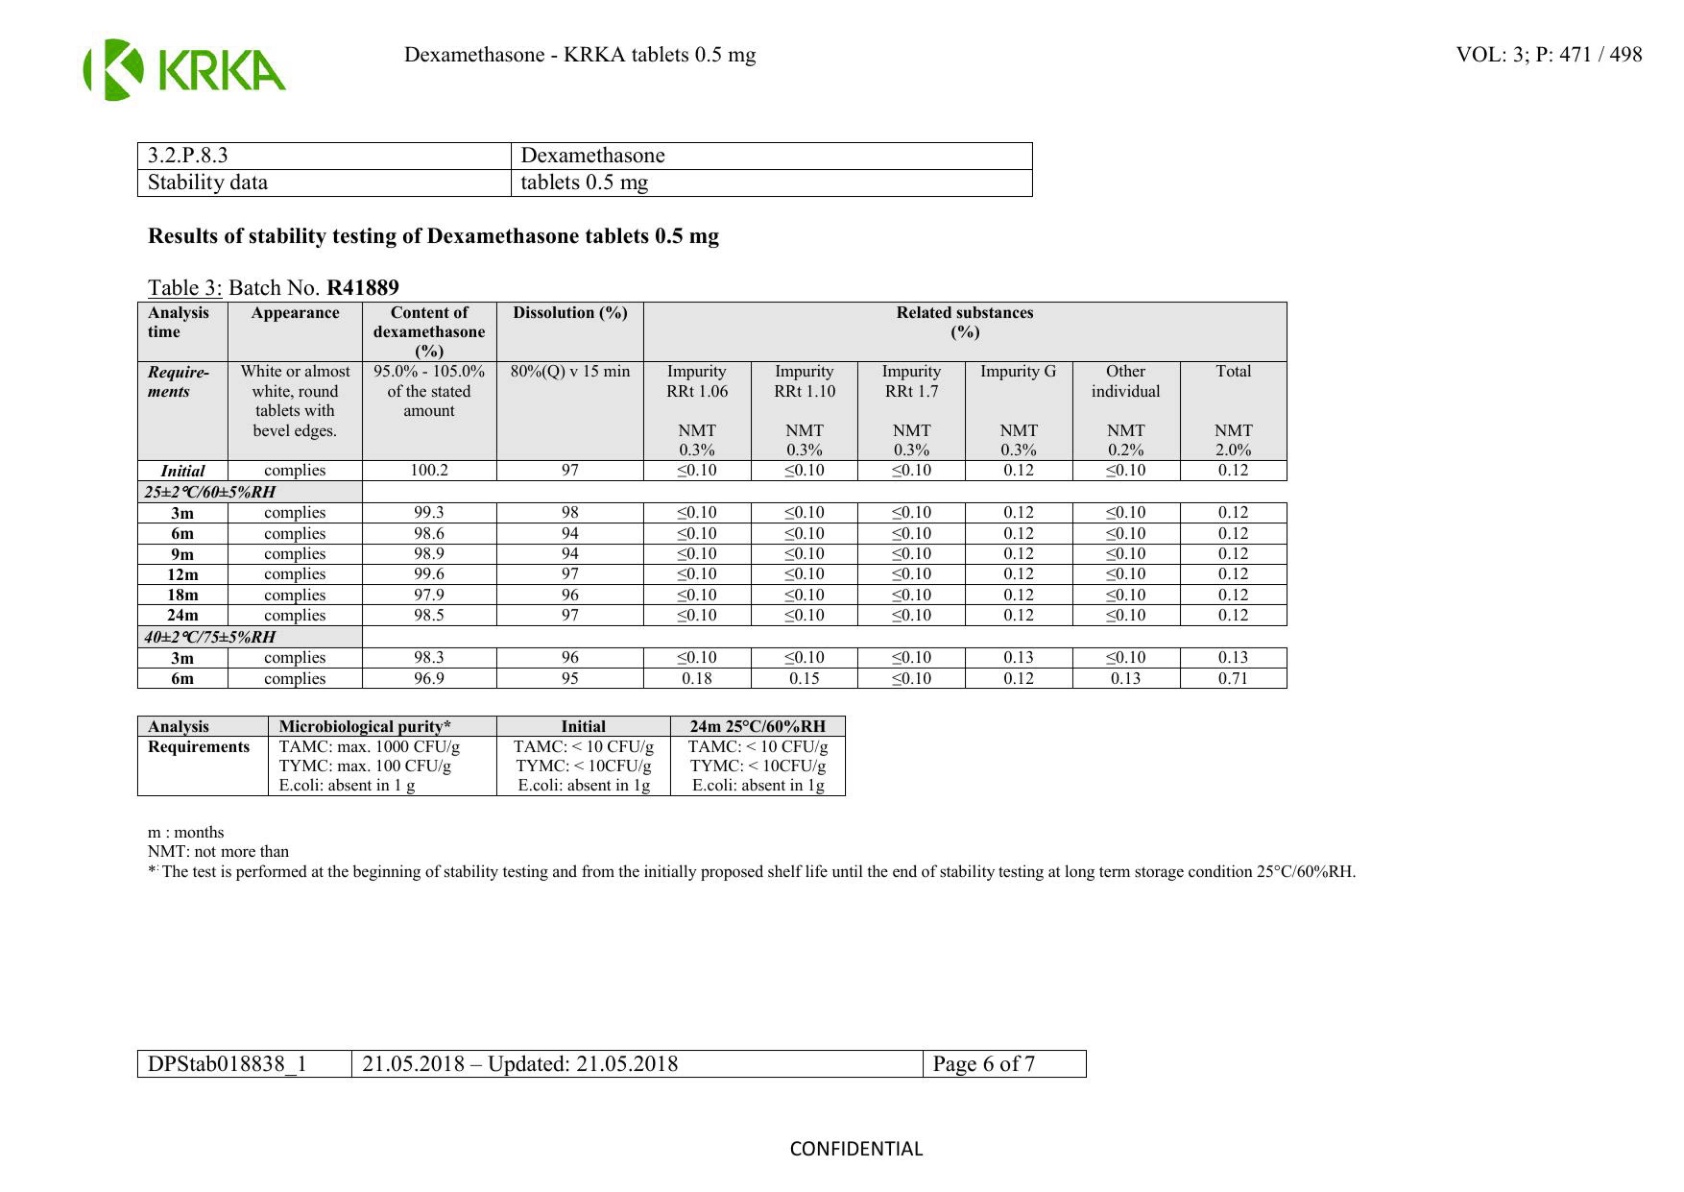full_lined: (135, 713, 847, 796), (135, 141, 1034, 197), (135, 1048, 1088, 1078)
merged_cells: (135, 301, 1288, 689)
